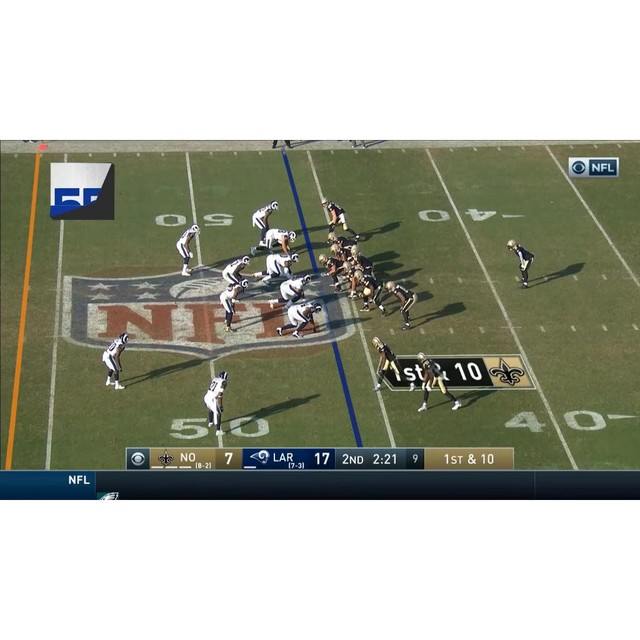american-football-player: (416, 351, 461, 414), (275, 301, 322, 338), (371, 337, 402, 392), (203, 370, 229, 433), (268, 273, 312, 310), (386, 281, 418, 331), (323, 199, 361, 241), (102, 332, 129, 390), (219, 280, 247, 331), (507, 238, 535, 289), (253, 253, 298, 284), (359, 272, 388, 317), (253, 228, 296, 258), (176, 224, 200, 276), (252, 200, 278, 244), (318, 254, 343, 289), (223, 255, 251, 286), (344, 262, 363, 298), (349, 248, 374, 275)
